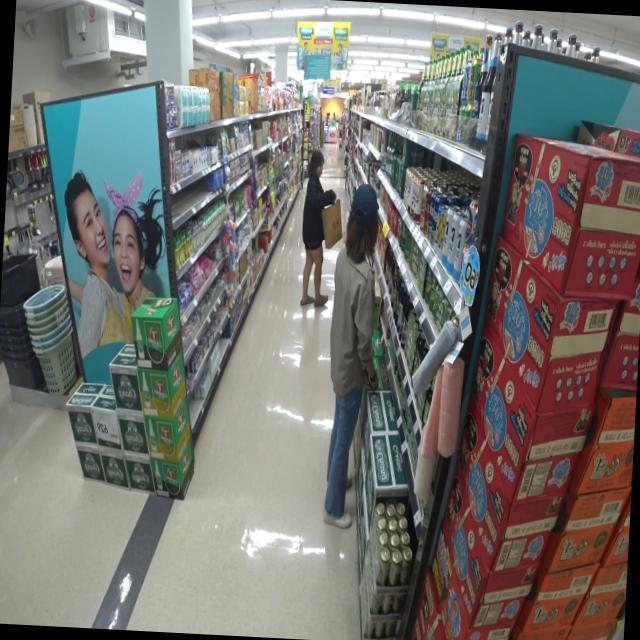shoplifting: (299, 150, 344, 313)
